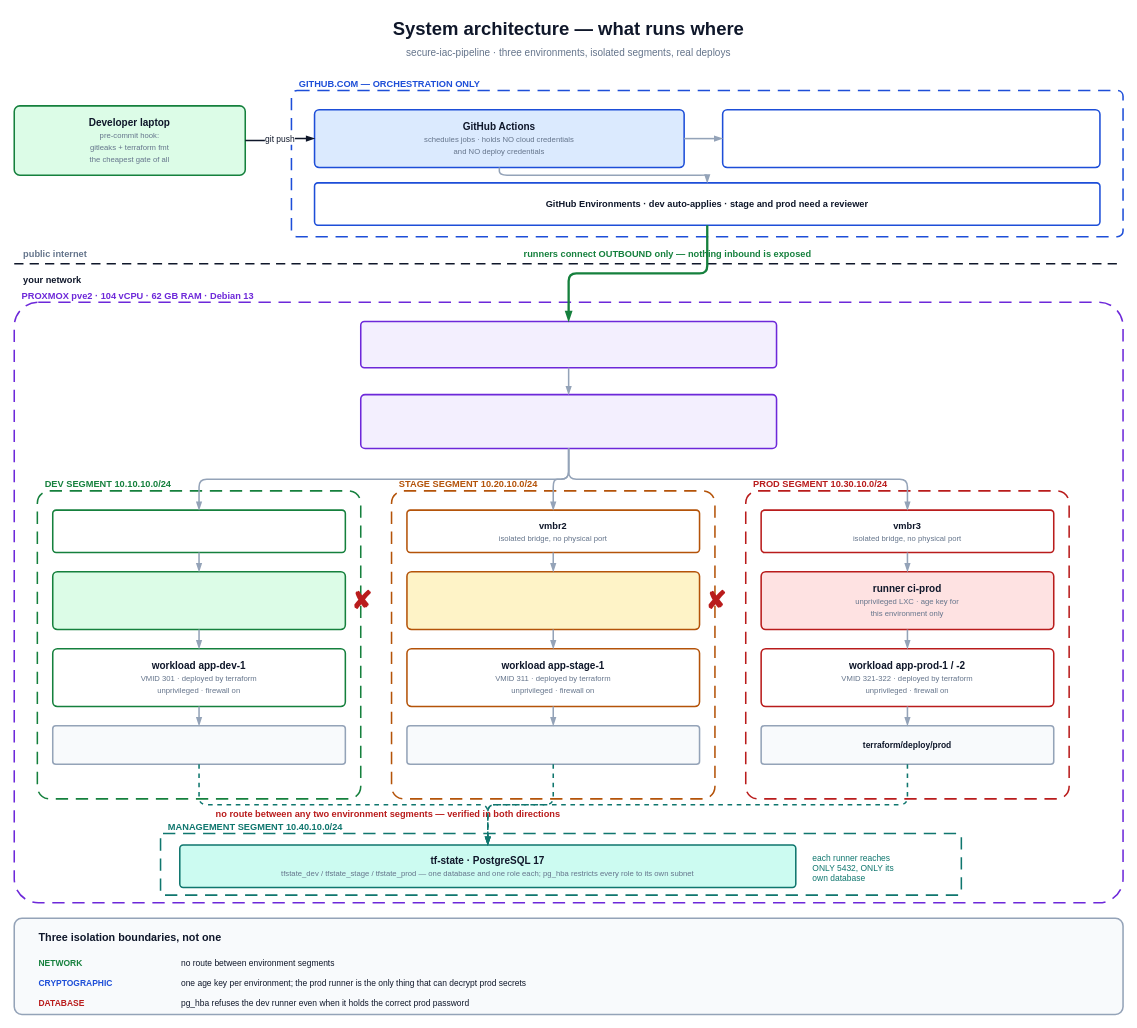
Some shapes in this 1137 by 1028 pixel diagram are drawn without their labels. The shapes that lost their labels are listed below. From the top down, each one's centre as x and y in pixels, then its label:
At point 910,138: "Security tab · SARIF checkov + gitleaks findings as code-scanning alerts".
At point 568,344: "vmbr0 — uplink 192.168.1.132/24 the only interface with a route to the internet".
At point 568,421: "NAT + forward policy runner-net.service · masquerade out, cross-segment DROP".
At point 199,531: "vmbr1 isolated bridge, no physical port".
At point 199,600: "runner ci-dev unprivileged LXC · age key for this environment only".
At point 553,600: "runner ci-stage unprivileged LXC · age key for this environment only".
At point 199,745: "terraform/deploy/dev".
At point 553,745: "terraform/deploy/stage".
